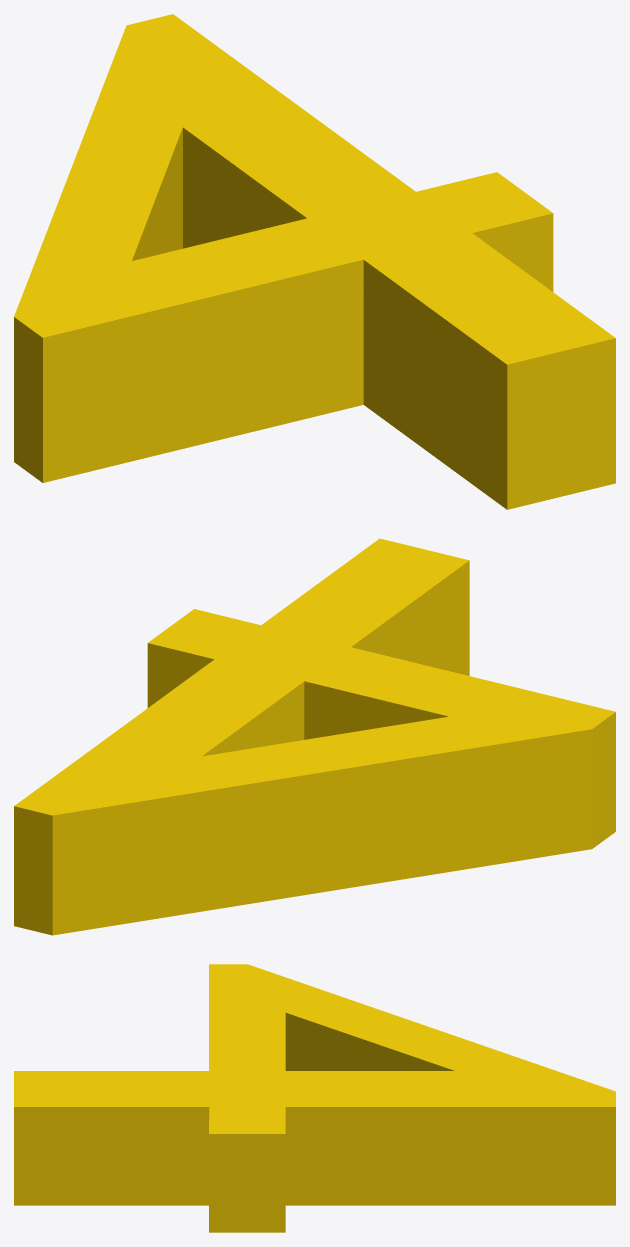
Rendered from four.glb.
The picture shows the model from 3 angles, top to bottom: view 1: azimuth 30°, elevation 25°; view 2: azimuth 150°, elevation 25°; view 3: azimuth 270°, elevation 25°; orthographic projection. The views are drawn at different scales.
Visible parts, largest first — view 1: Text.004; view 2: Text.004; view 3: Text.004.
Boxes of the visible parts, <box> form: Text.004: <box>14,14,615,509</box>; Text.004: <box>14,538,615,935</box>; Text.004: <box>14,964,615,1232</box>.
Size of the model in its own units: 0.368 by 0.1 by 0.5528.
Materials: 1 (1 with a texture image).
